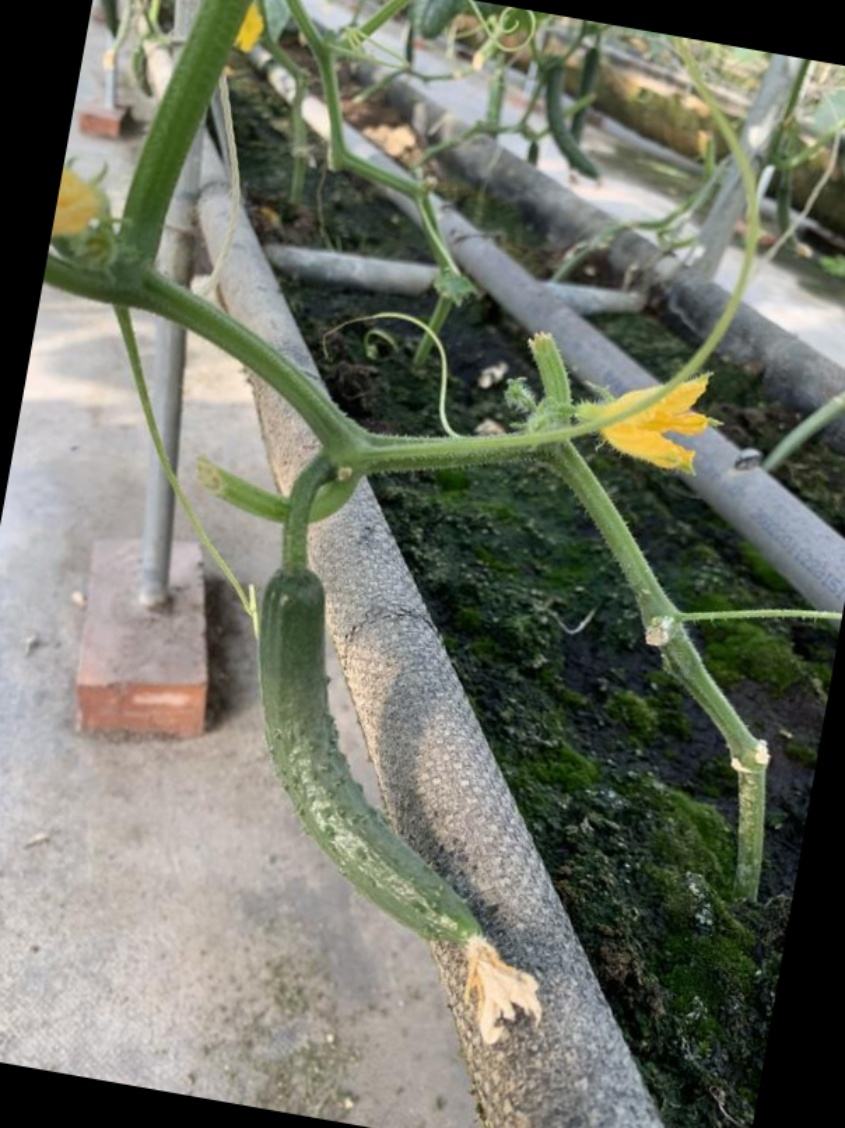growth: (249, 559, 518, 987)
